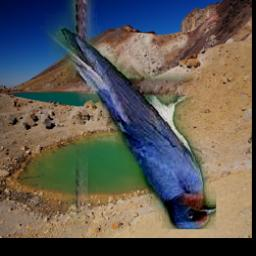Swallow: (0, 0, 217, 230)
